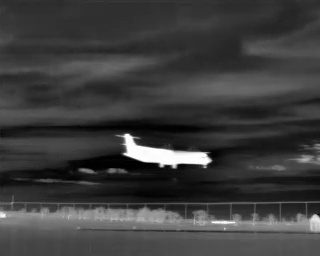AIRPLANE: (117, 138, 216, 175)
